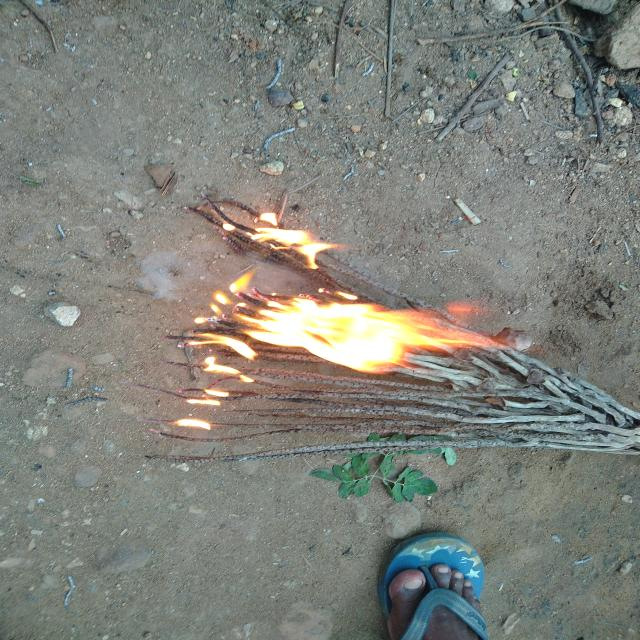firerotation: (169, 209, 499, 432)
